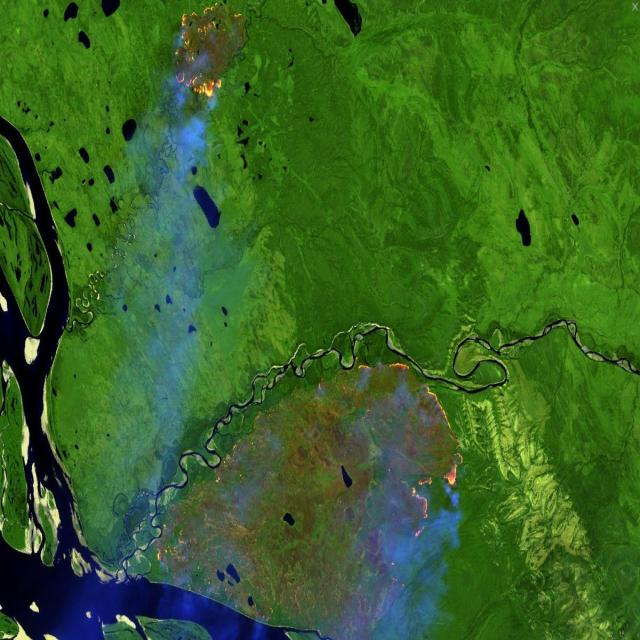fire: (356, 352, 460, 552), (170, 0, 232, 99)
